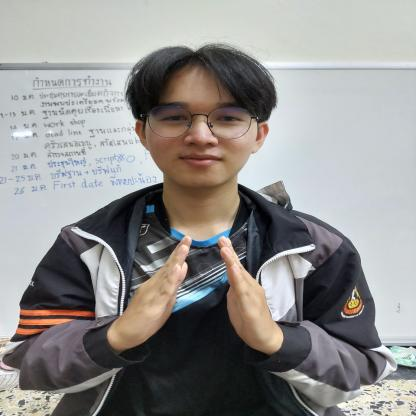Thank you: (124, 225, 288, 352)
